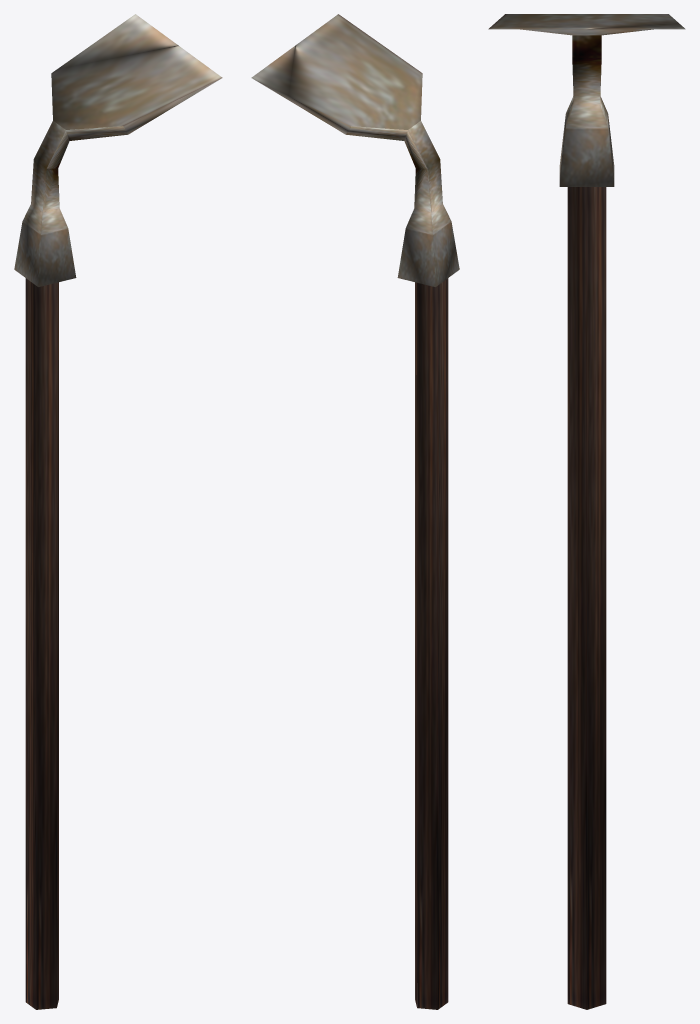
File: mm9_item_monkhoe.glb
3 renders of one model, left to right at view 1: azimuth 30°, elevation 25°; view 2: azimuth 150°, elevation 25°; view 3: azimuth 270°, elevation 25°, orthographic. The views are drawn at different scales.
Parts seen in each view (by area): view 1: mm9_item_monkhoe; view 2: mm9_item_monkhoe; view 3: mm9_item_monkhoe.
Part boxes in pixels (x1,y1,x2,y2): mm9_item_monkhoe: (14,14,222,1009); mm9_item_monkhoe: (251,14,459,1009); mm9_item_monkhoe: (488,14,685,1009).
Bounding box in the file's own units: 0.2241 × 1.29 × 0.2214.
1 material, 1 textured.
